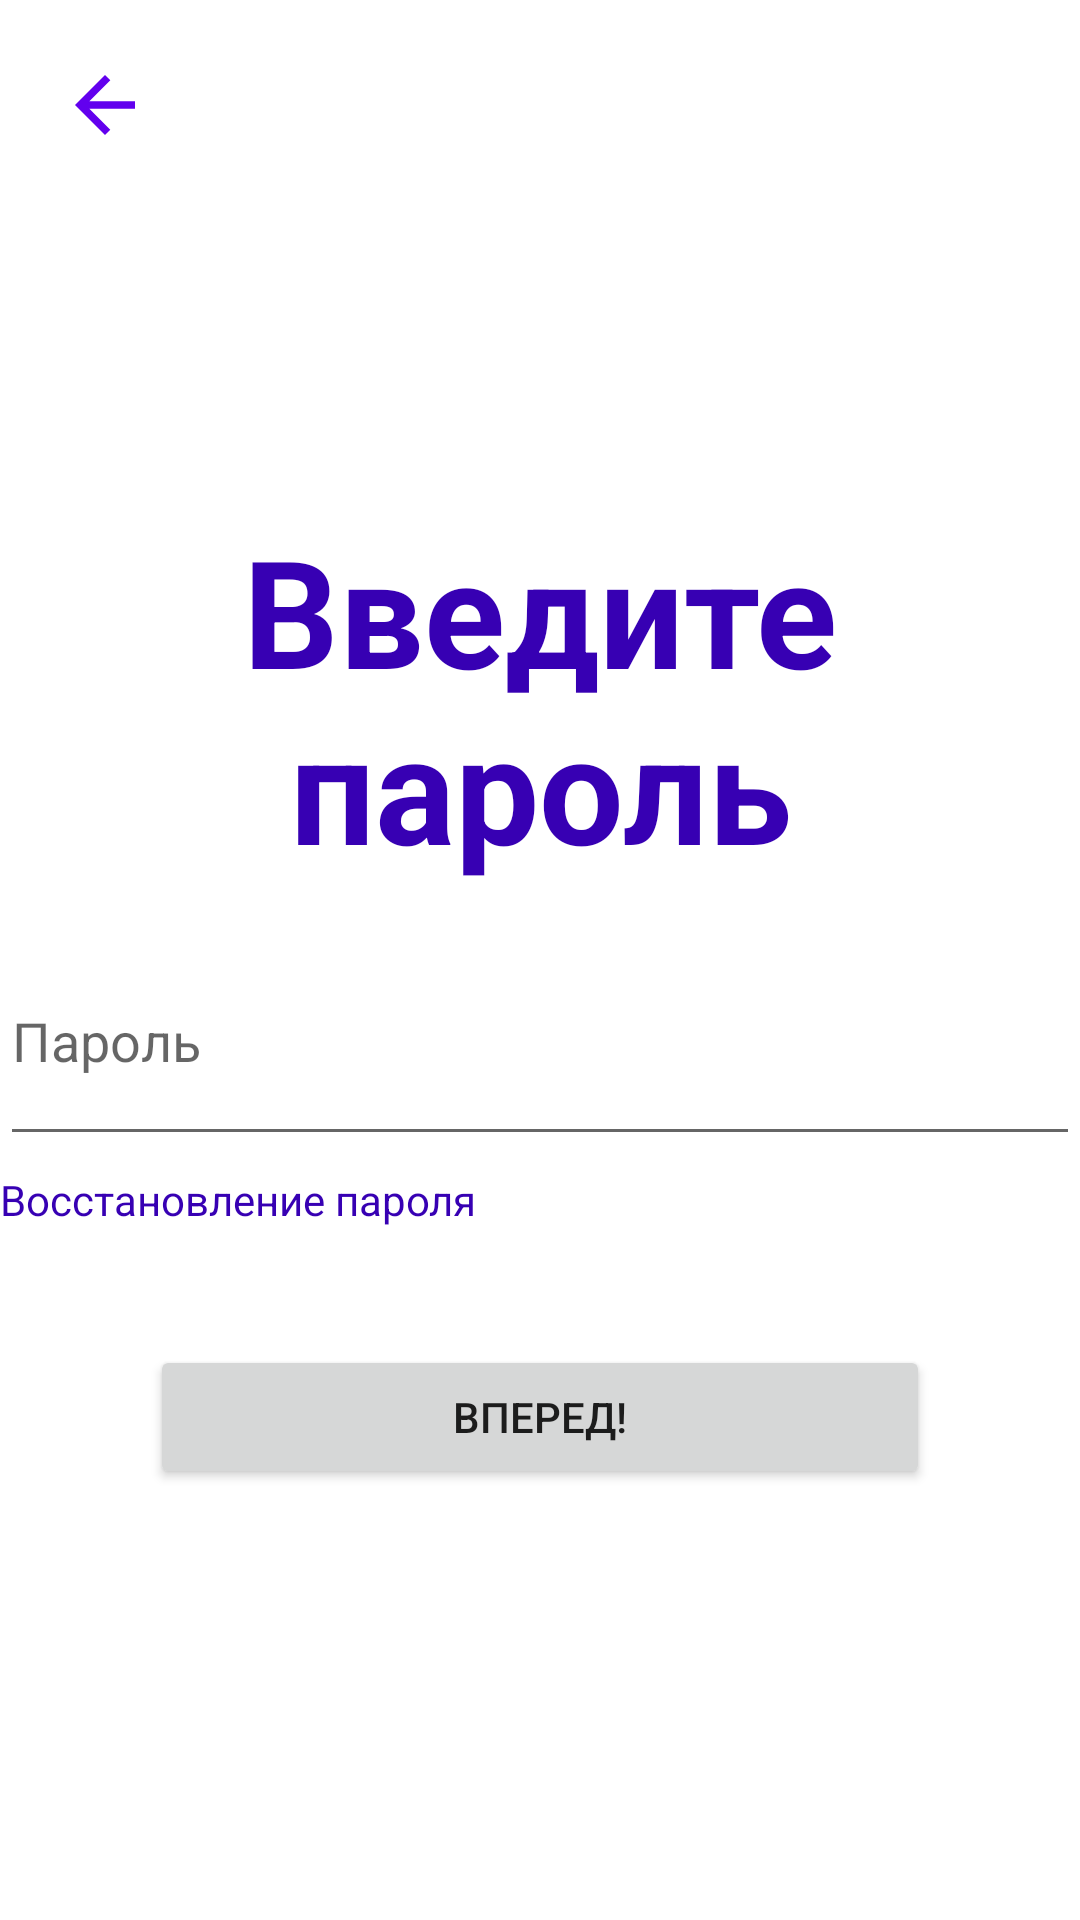

Icons on this 1080w x 1920h Android screen, each with its box as box=[x1, y1, x2, y2]:
back: box=[75, 75, 135, 135]
